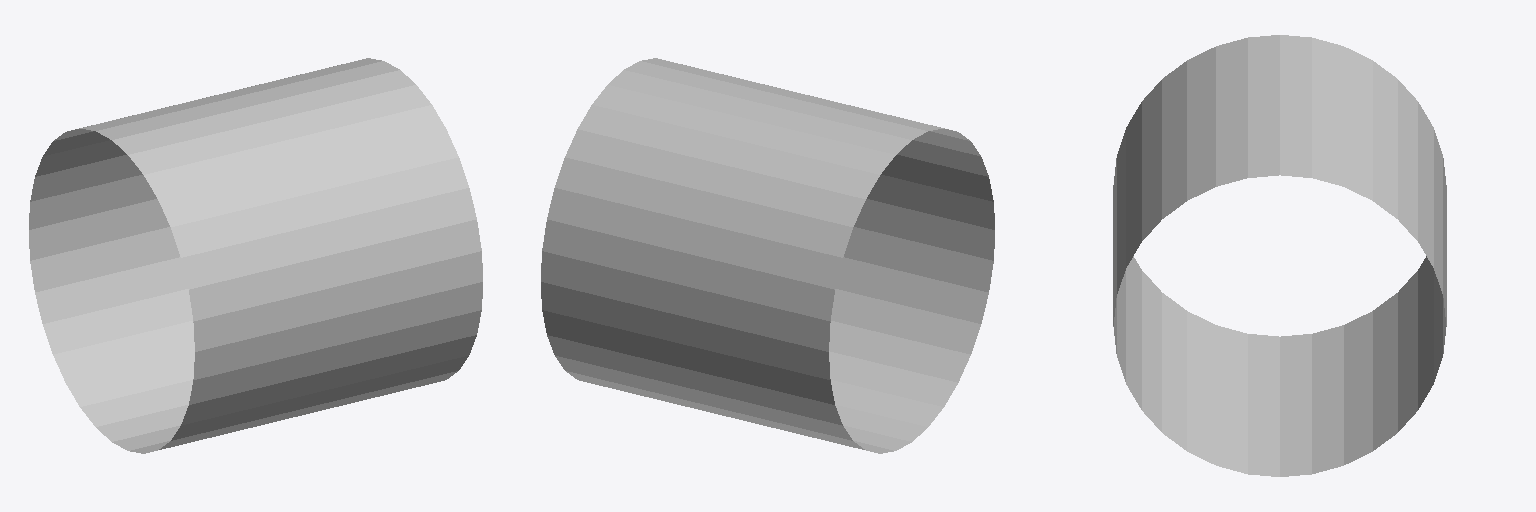
File: beam.obj
The picture shows the model from 3 angles: view 1: azimuth 30°, elevation 25°; view 2: azimuth 150°, elevation 25°; view 3: azimuth 270°, elevation 25°; orthographic projection.
Visible parts, largest first — view 1: Cylinder; view 2: Cylinder; view 3: Cylinder.
Part boxes in pixels (x1,y1,x2,y2): Cylinder: (29, 58, 482, 453); Cylinder: (541, 58, 994, 453); Cylinder: (1113, 35, 1446, 476).
Bounding box in the file's own units: 2 × 2 × 2.